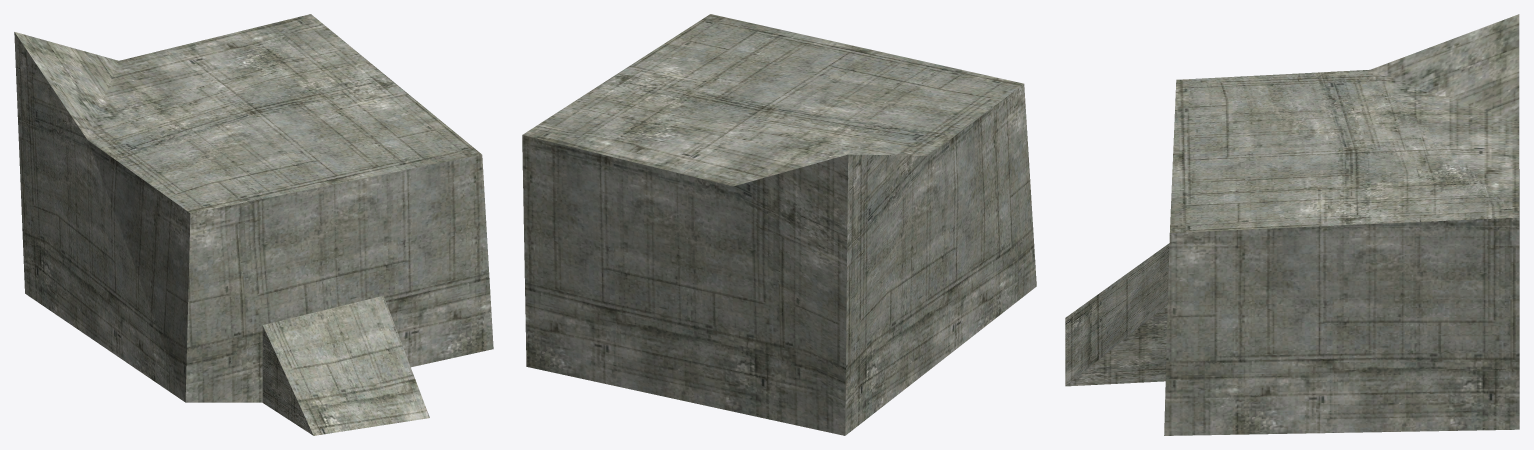
Rendered from thm_prp_junk_s4_l2.fbx.
The picture shows the model from 3 angles, left to right: view 1: azimuth 30°, elevation 25°; view 2: azimuth 150°, elevation 25°; view 3: azimuth 270°, elevation 25°; orthographic projection. The views are drawn at different scales.
Parts seen in each view (by area): view 1: mesh_node; view 2: mesh_node; view 3: mesh_node.
Part boxes in pixels (<box>): mesh_node: <box>14,14,493,435</box>; mesh_node: <box>522,14,1036,435</box>; mesh_node: <box>1065,14,1519,435</box>.
Size of the model in its own units: 3.08 by 2.61 by 3.89.
